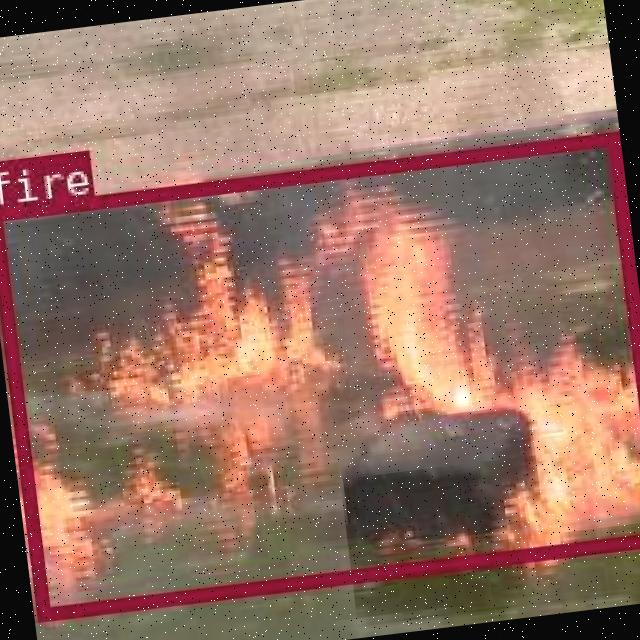fire: (0, 131, 640, 617)
